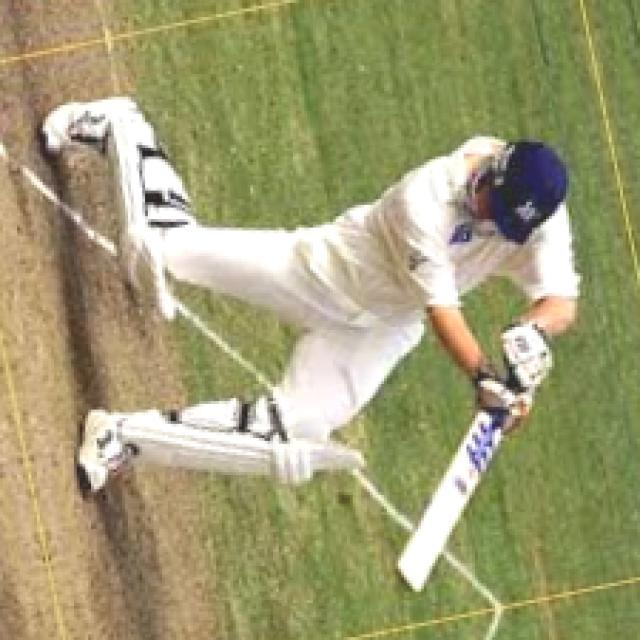bat: (386, 410, 512, 606)
toe: (386, 554, 427, 605)
